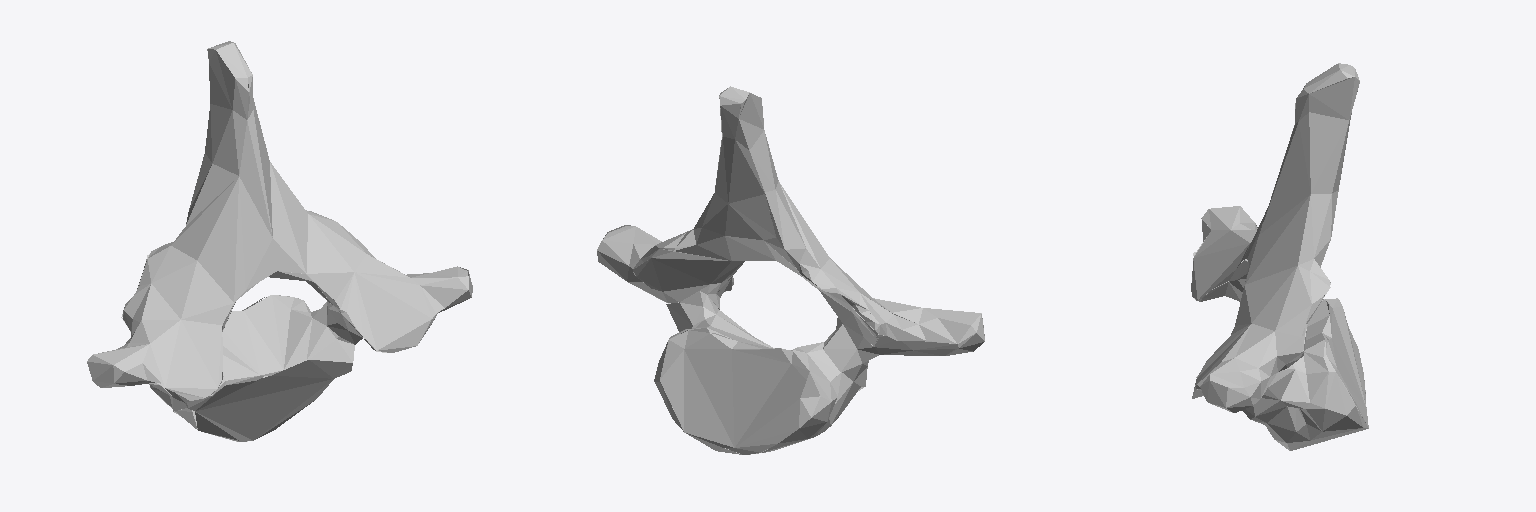
The model's file is first thoracic vertebra.obj.
3 views of the same model, side by side, from view 1: azimuth 30°, elevation 25°; view 2: azimuth 150°, elevation 25°; view 3: azimuth 270°, elevation 25° (orthographic).
Parts seen in each view (by area): view 1: grp1; view 2: grp1; view 3: grp1.
Part boxes in pixels (x1,y1,x2,y2): grp1: (87, 41, 472, 441); grp1: (597, 86, 984, 454); grp1: (1191, 63, 1368, 450).
Size of the model in its own units: 73.36 by 69.89 by 29.71.